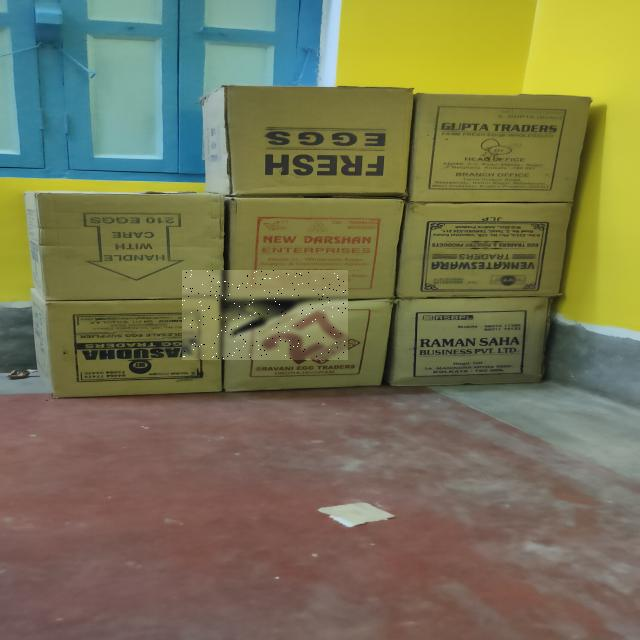squeeze: (182, 271, 347, 359)
